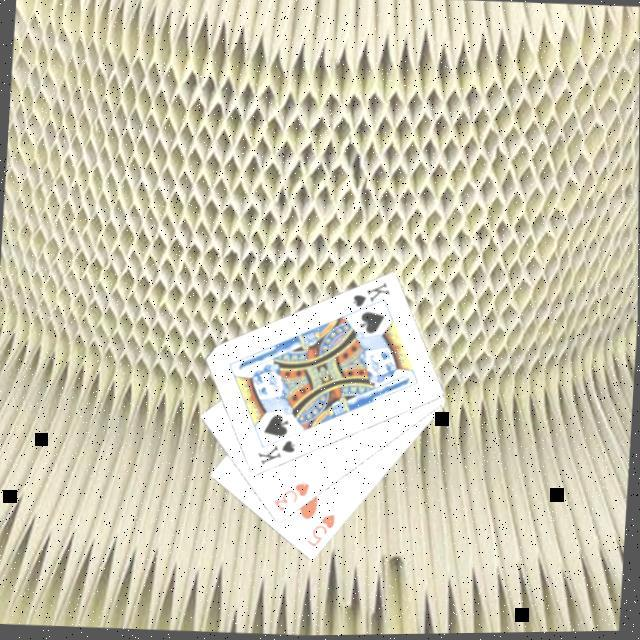3H: (272, 480, 315, 518)
5H: (305, 512, 341, 554)
KS: (350, 281, 396, 322), (256, 438, 301, 473)
